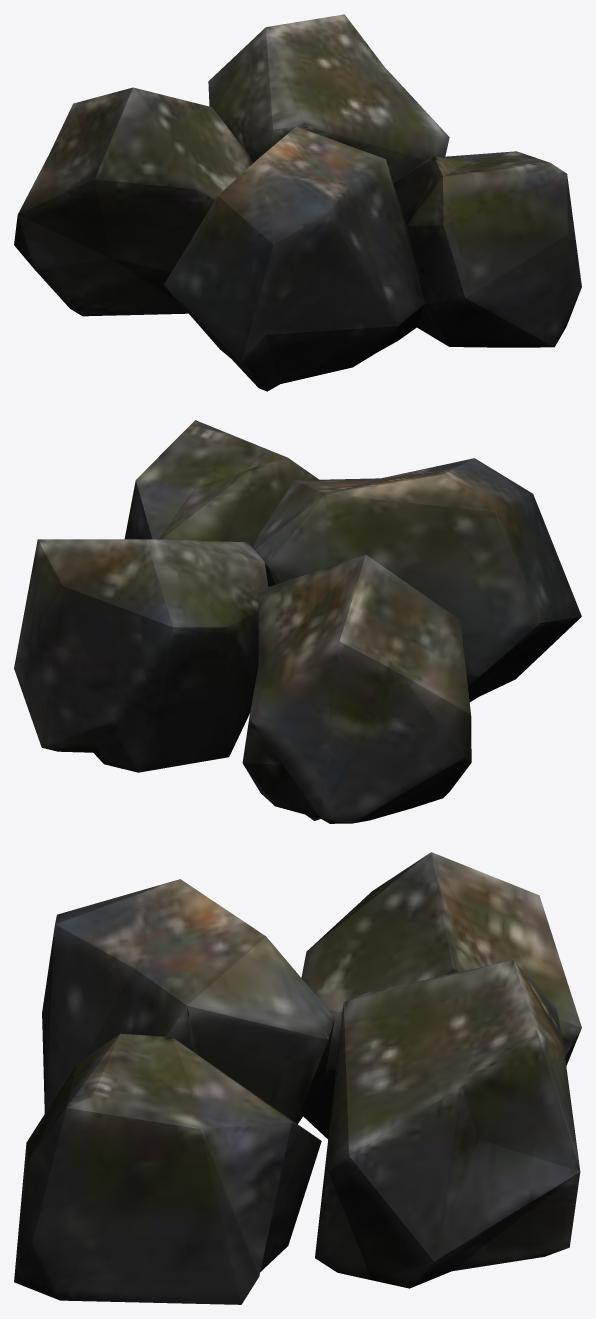
Rendered from mossy_erratic_lod1.glb.
The picture shows the model from 3 angles, top to bottom: view 1: azimuth 30°, elevation 25°; view 2: azimuth 150°, elevation 25°; view 3: azimuth 270°, elevation 25°; orthographic projection. The views are drawn at different scales.
Parts seen in each view (by area): view 1: mossy_erratic_lod1; view 2: mossy_erratic_lod1; view 3: mossy_erratic_lod1.
Part boxes in pixels (<box>): mossy_erratic_lod1: <box>14,14,581,391</box>; mossy_erratic_lod1: <box>14,420,581,823</box>; mossy_erratic_lod1: <box>14,852,581,1304</box>.
Bounding box in the file's own units: 1 × 0.5027 × 0.944.
1 material, 1 textured.
